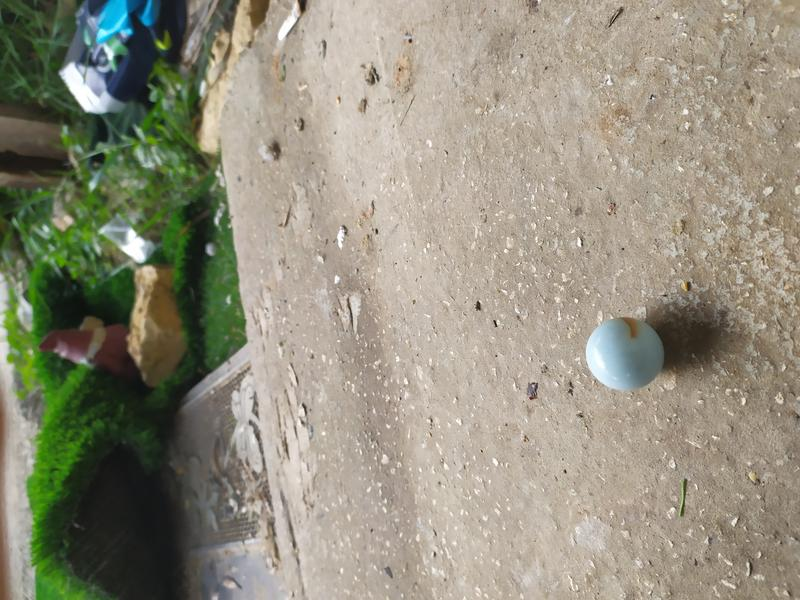Warning: (583, 312, 668, 394)
